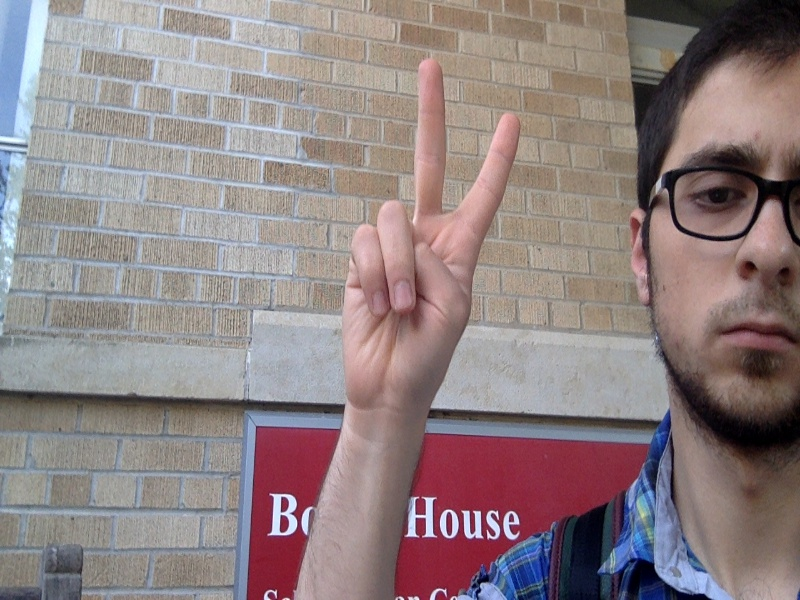2-hand: (341, 57, 523, 440)
